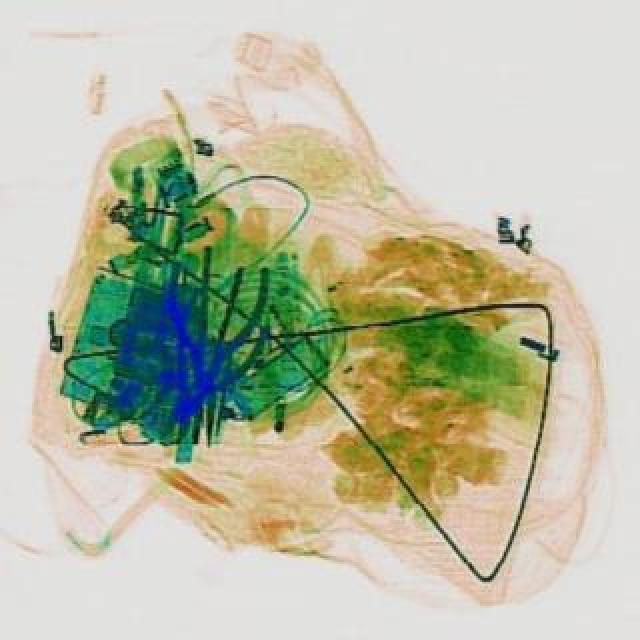wrench: (126, 286, 278, 458), (150, 260, 270, 452)
